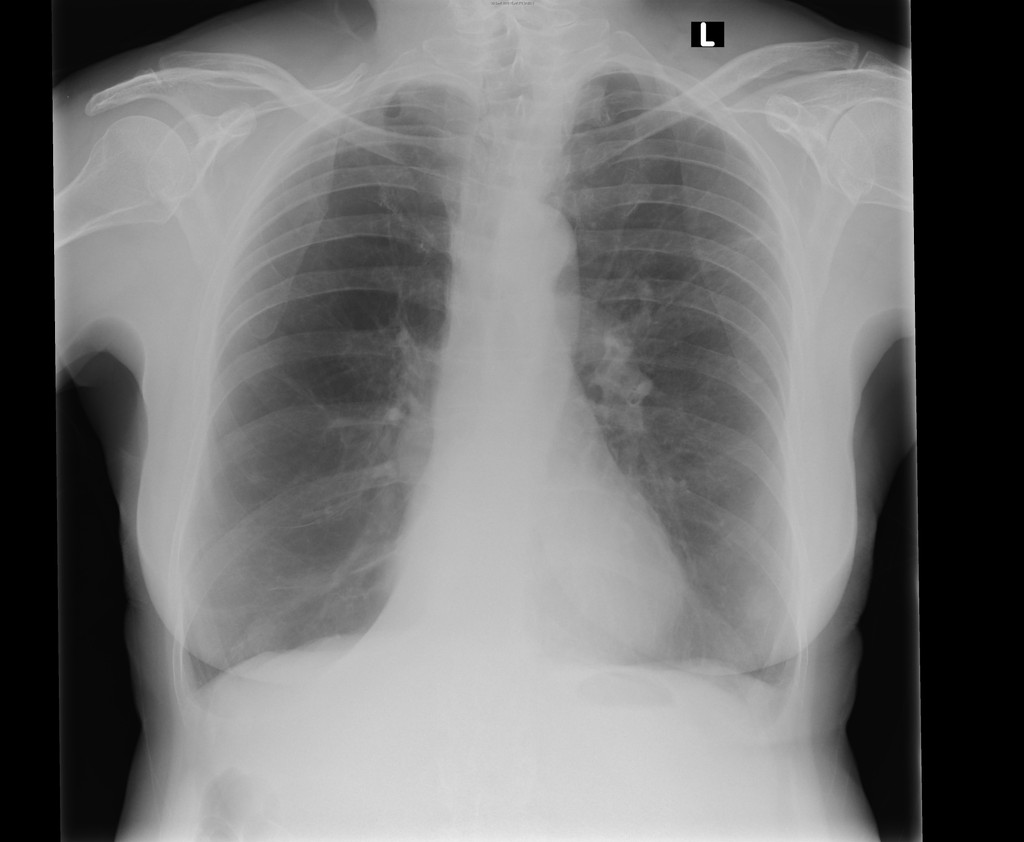cancer: (210, 146, 441, 660)
